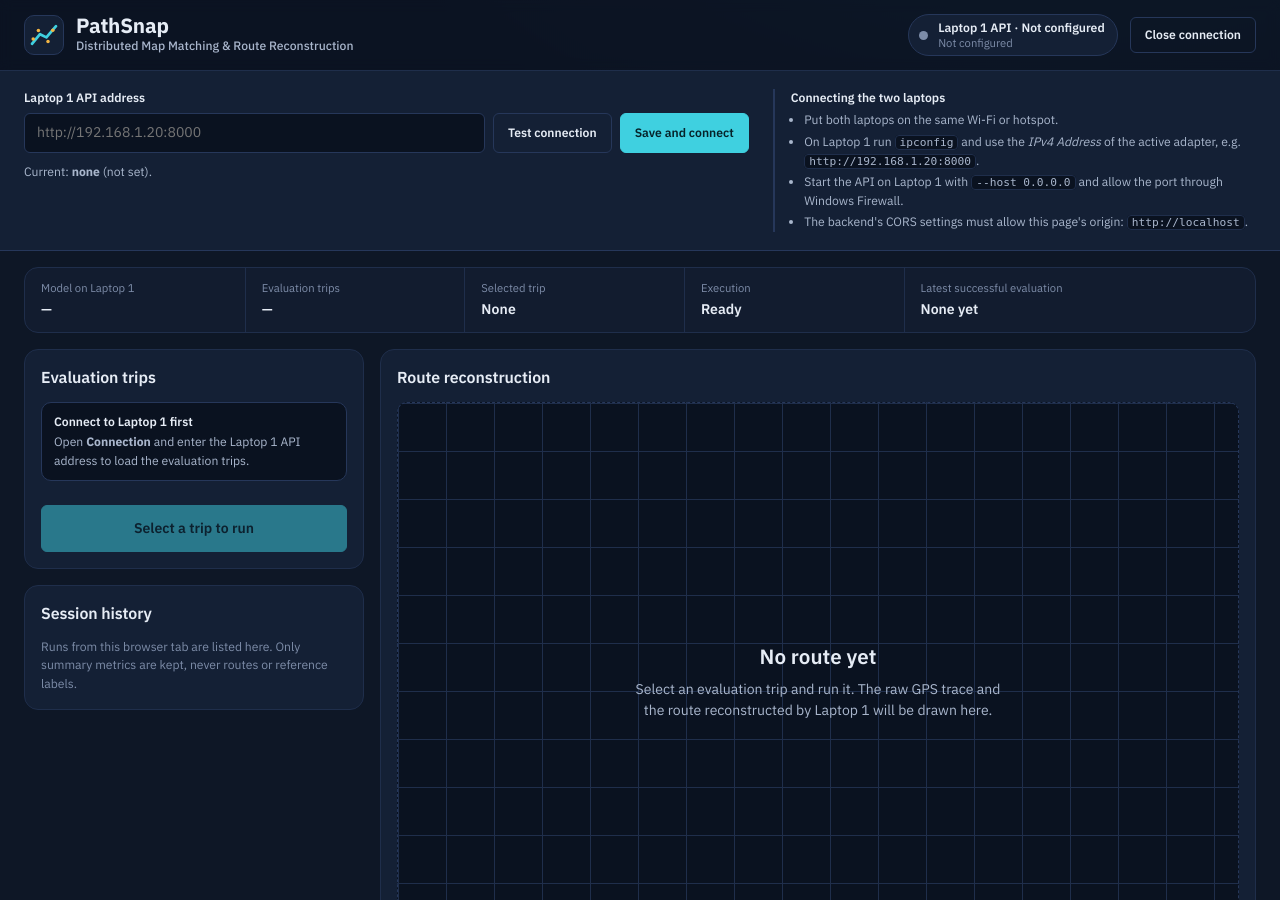
Scenario: dashboard › connects using an address entered in the connection panel
Step 1. Type "test-laptop1.invalid:8000" into the field labelled "Laptop 1 API address" → coordinates (254, 133), box 24,113 -> 485,152
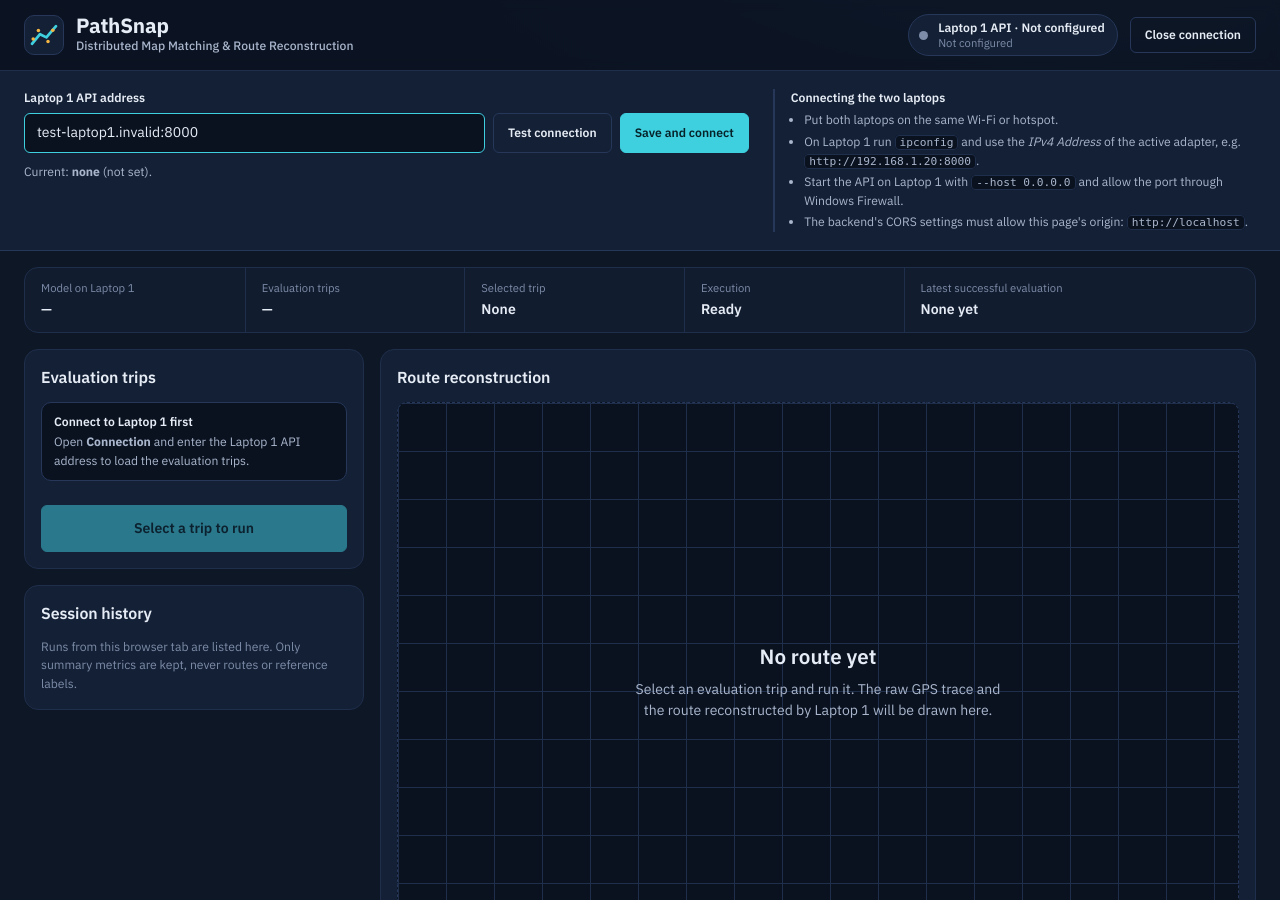
Step 2. Click the button "Save and connect" → coordinates (684, 133), box 620,113 -> 749,152
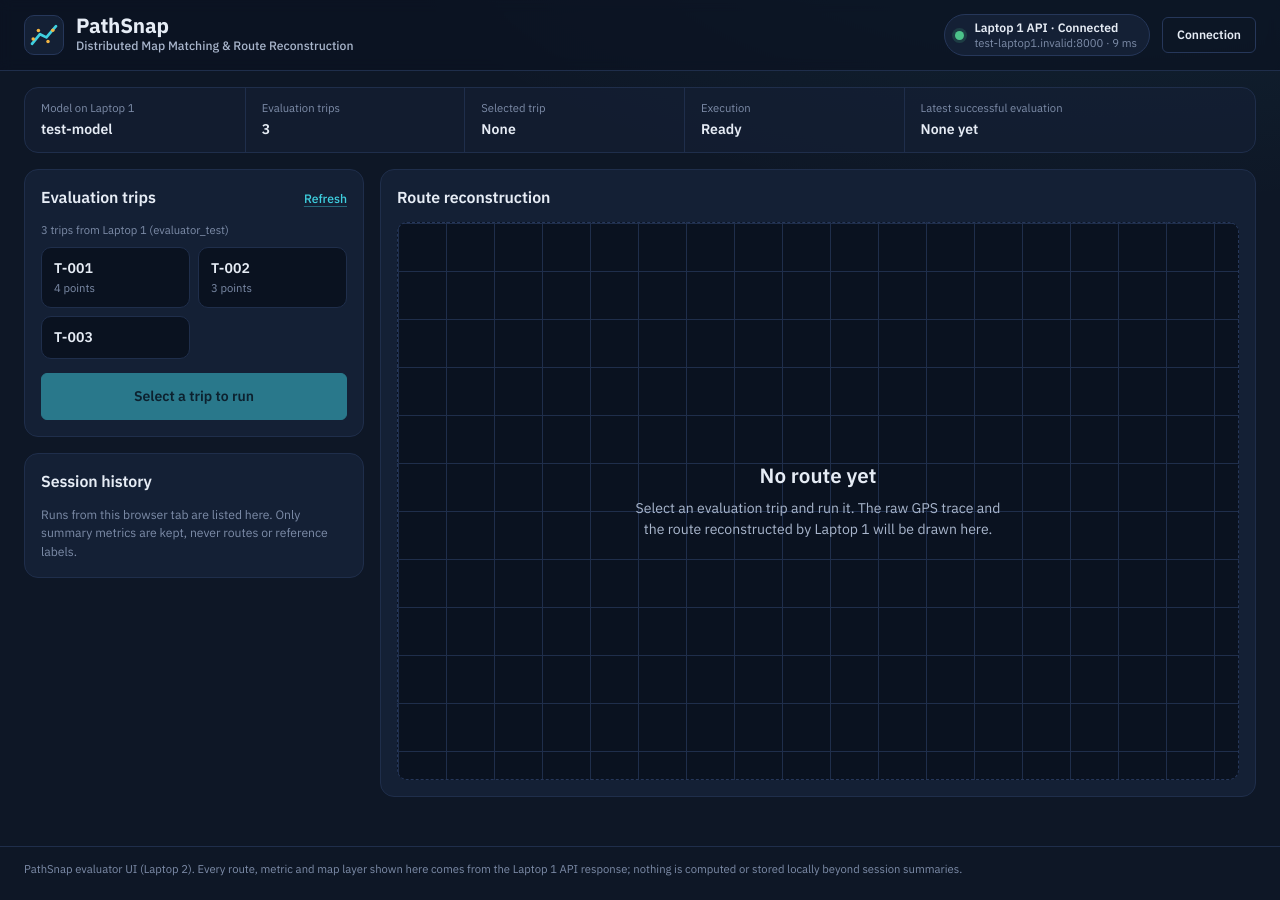
Now the radio button with test id "trip-T-001" is shown, box 41,247 -> 190,308
